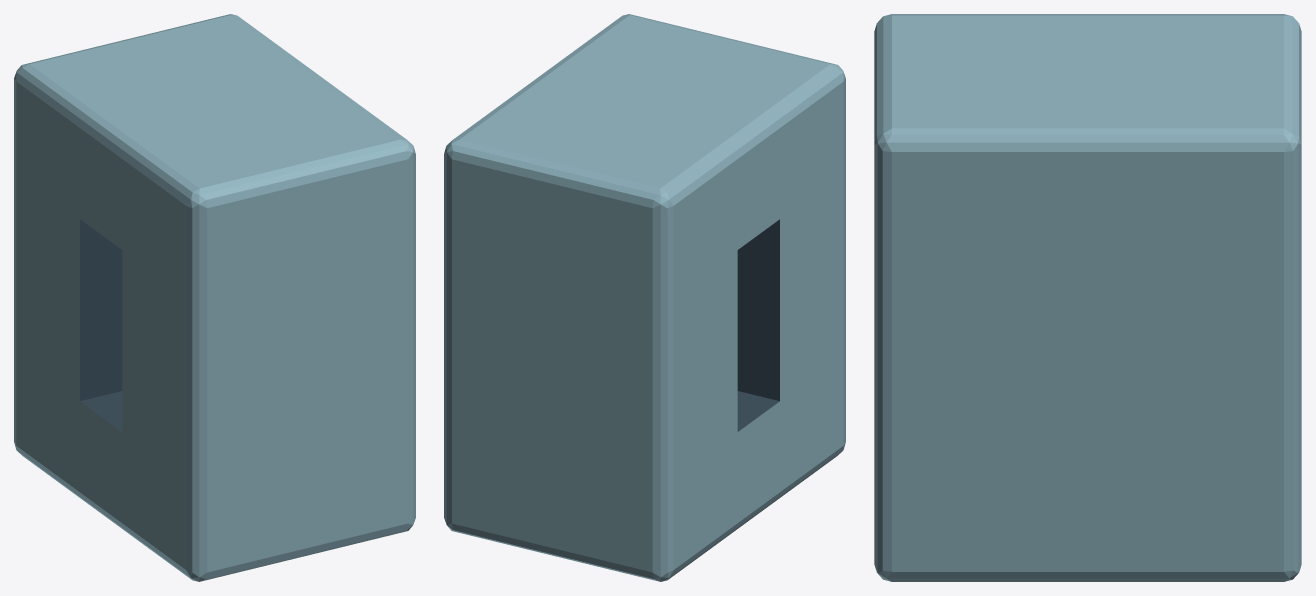
The picture shows the model from 3 angles, left to right: view 1: azimuth 30°, elevation 25°; view 2: azimuth 150°, elevation 25°; view 3: azimuth 270°, elevation 25°; orthographic projection. The views are drawn at different scales.
Parts seen in each view (by area): view 1: geometry_0; view 2: geometry_0; view 3: geometry_0.
Boxes of the visible parts, box(x1,y1,x2,y2) form: geometry_0: box(14, 14, 415, 581); geometry_0: box(444, 14, 845, 581); geometry_0: box(874, 14, 1301, 581).
Bounding box in the file's own units: 0.017 × 0.028 × 0.024.
Materials: 1 (1 with a texture image).
